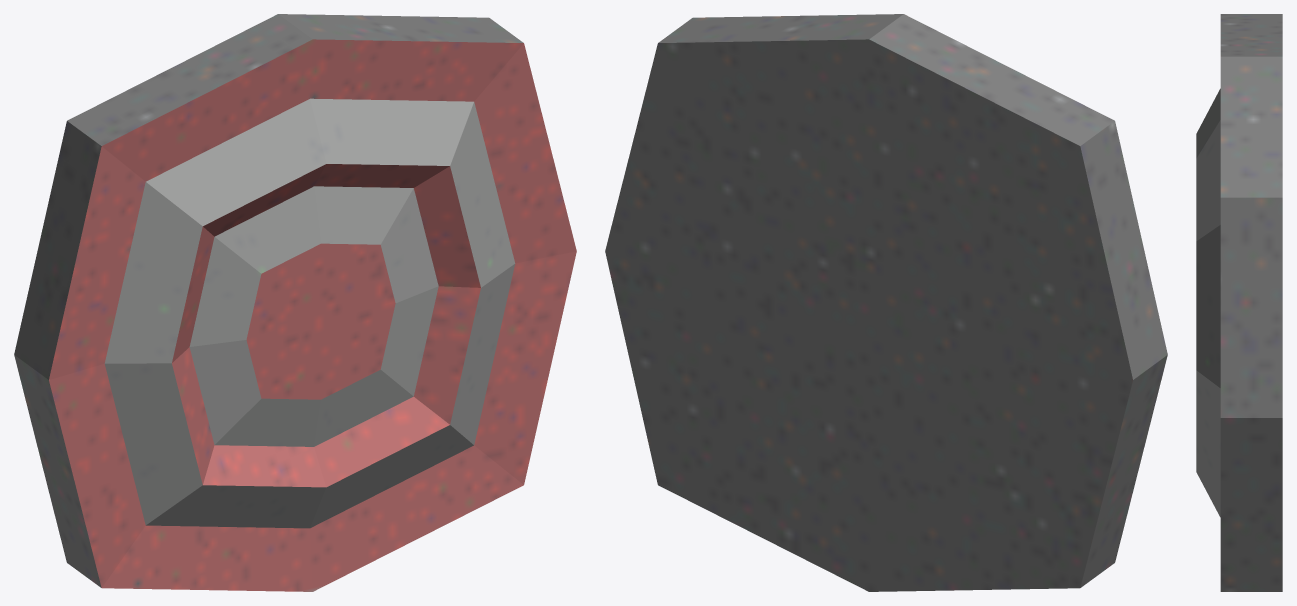
Rendered from target.glb.
3 views of the same model, side by side, from view 1: azimuth 30°, elevation 25°; view 2: azimuth 150°, elevation 25°; view 3: azimuth 270°, elevation 25° (orthographic). The views are drawn at different scales.
Parts seen in each view (by area): view 1: Target; view 2: Target; view 3: Target.
Boxes of the visible parts, box(x1,y1,x2,y2) form: Target: box(14, 14, 576, 591); Target: box(605, 14, 1167, 591); Target: box(1196, 14, 1282, 591).
Size of the model in its own units: 0.7546 by 0.7546 by 0.1196.
1 material, 1 textured.
